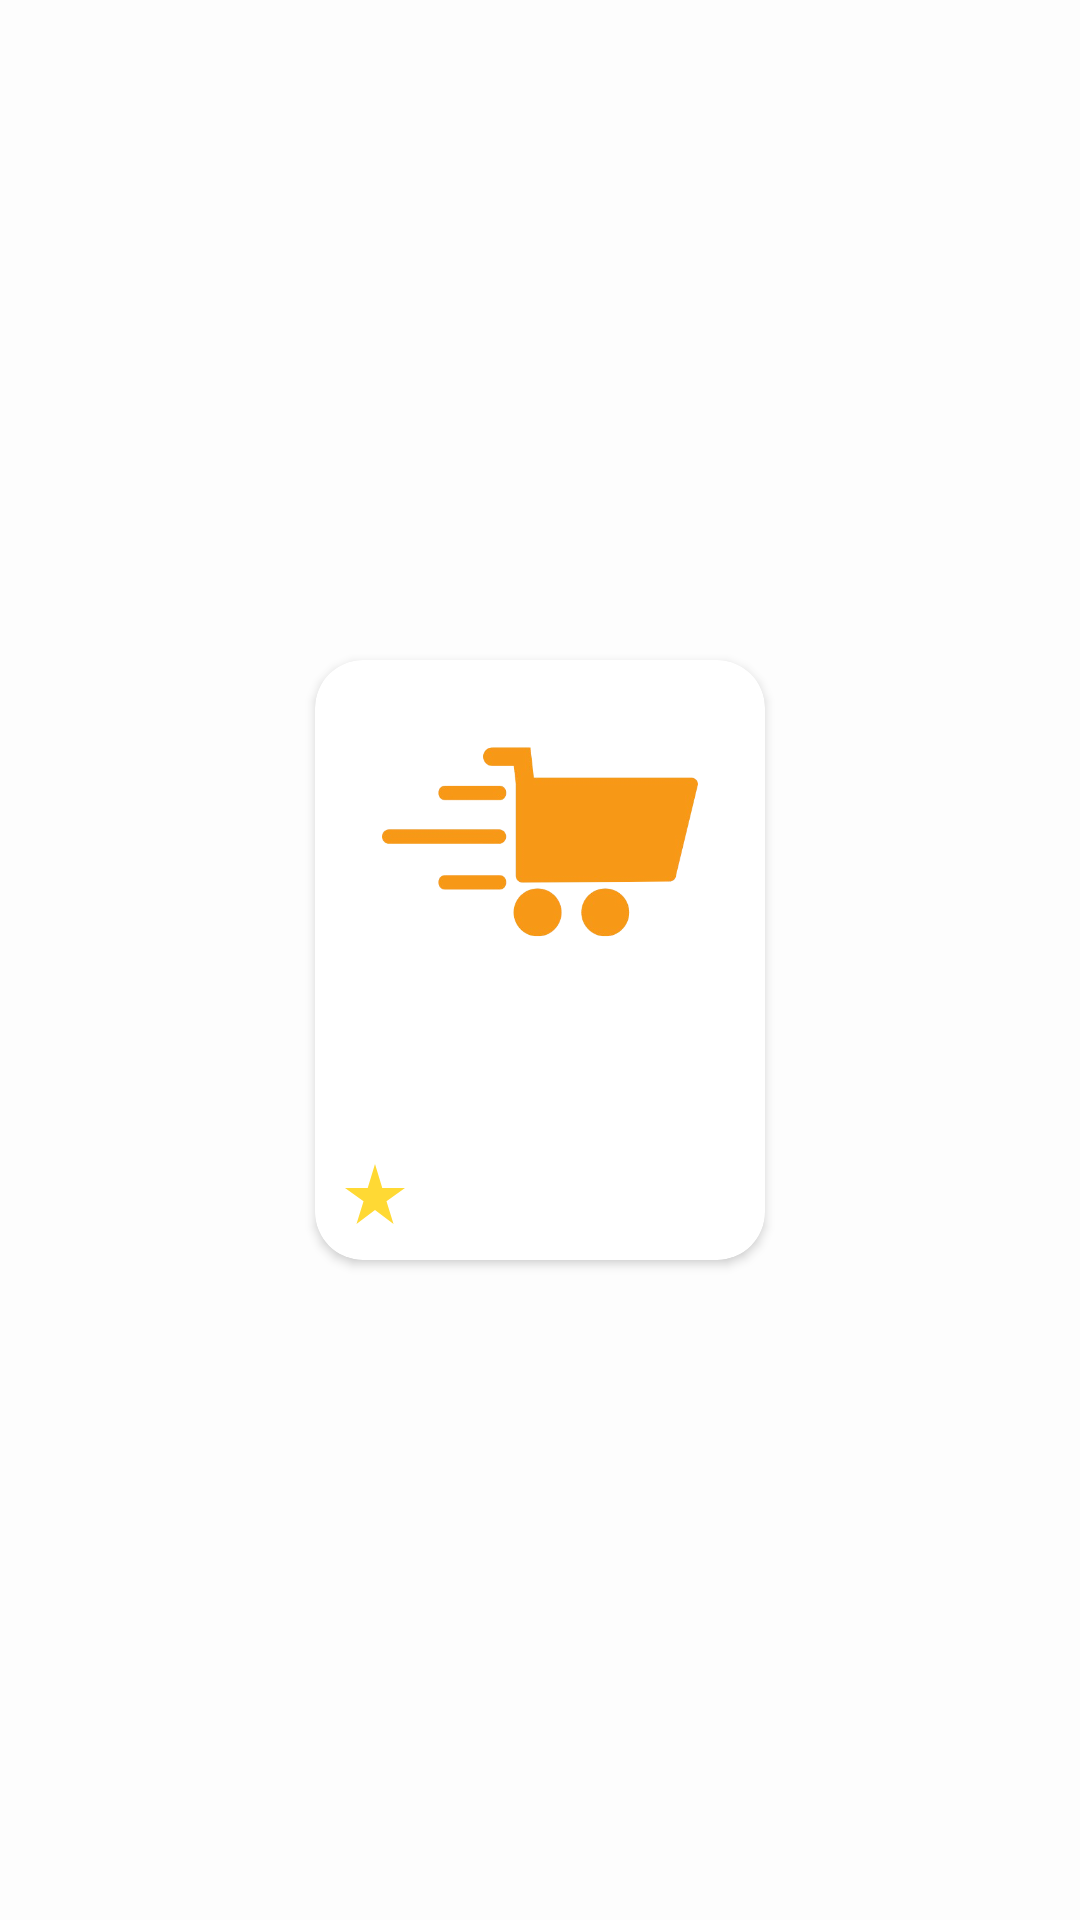

Screen size 1080 × 1920. Icon name, then its center in pixels as (x,y):
star rate: (375,1194)
